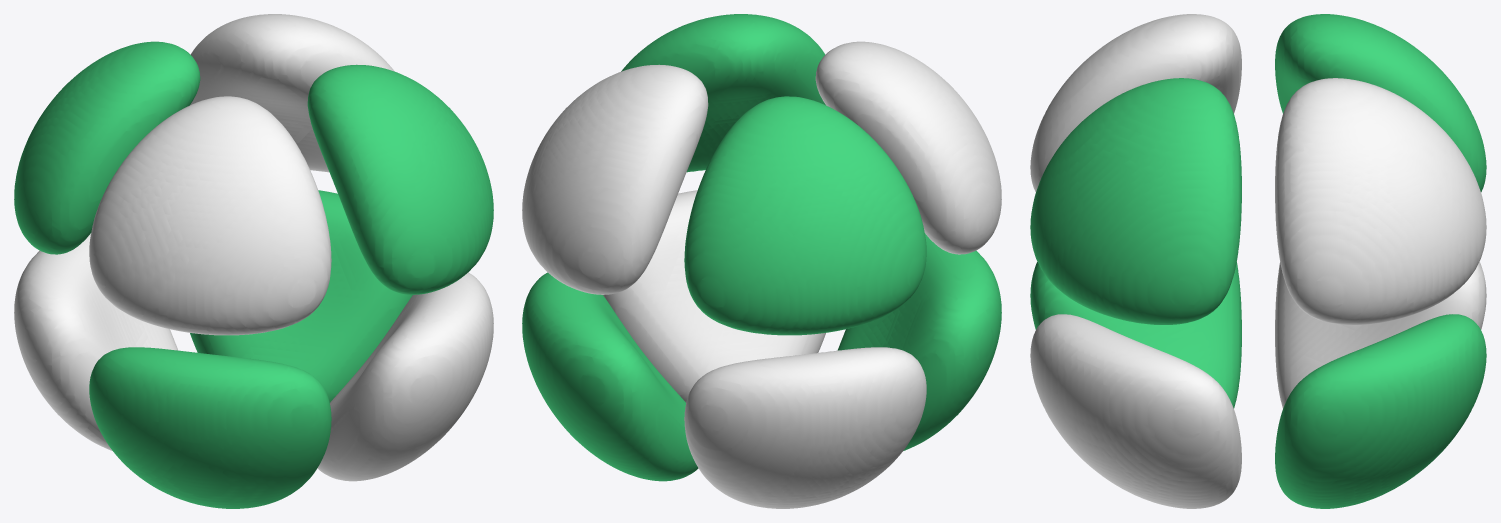
The model's file is f_fxyz.glb.
3 renders of one model, left to right at view 1: azimuth 30°, elevation 25°; view 2: azimuth 150°, elevation 25°; view 3: azimuth 270°, elevation 25°, orthographic. The views are drawn at different scales.
Visible parts, largest first — view 1: f_fxyz; view 2: f_fxyz; view 3: f_fxyz.
Part boxes in pixels (box(x1,y1,x2,y2)): f_fxyz: box(14, 14, 493, 508); f_fxyz: box(522, 14, 1001, 508); f_fxyz: box(1030, 14, 1486, 508).
Size of the model in its own units: 1.7 by 1.7 by 1.7.
